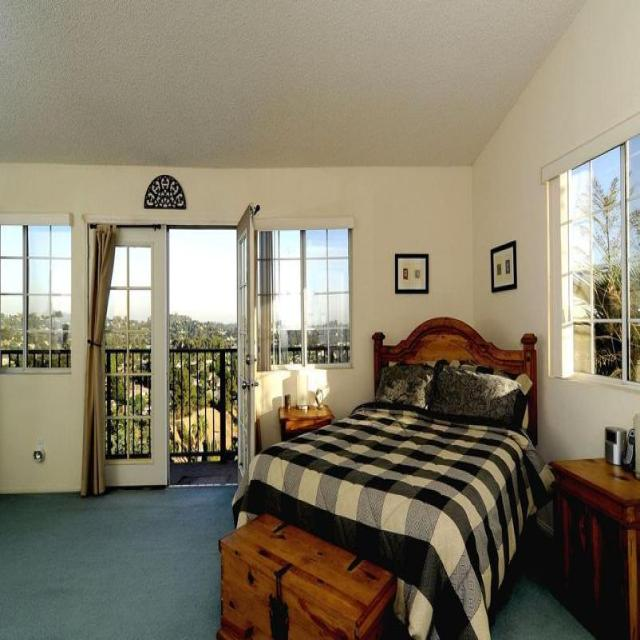bed: (231, 315, 554, 639)
curtains: (79, 223, 117, 497)
door: (236, 204, 256, 485)
storage: (217, 511, 397, 639)
table: (548, 456, 640, 639), (278, 402, 334, 440)
window: (545, 128, 639, 388), (255, 225, 352, 371)
windows: (0, 215, 72, 373), (103, 241, 152, 461)
